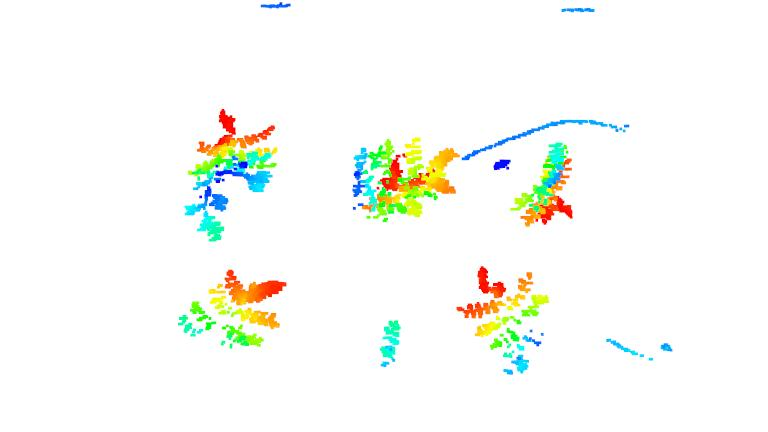chickpea: (176, 106, 276, 238), (459, 267, 549, 377), (351, 135, 462, 220), (175, 272, 287, 352), (511, 139, 573, 228), (374, 318, 403, 367)
